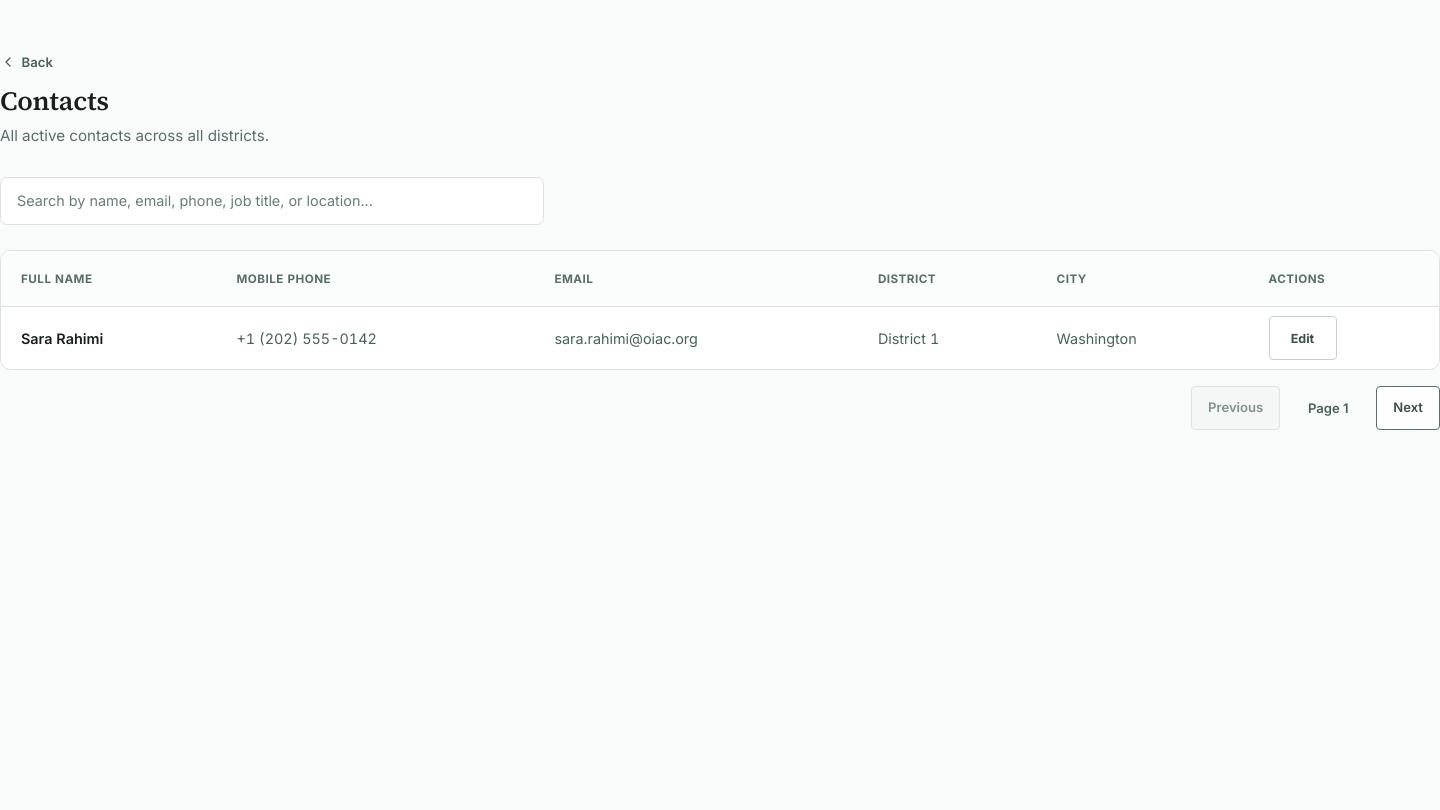
Scenario: opens and closes the administrator edit modal and restores focus
This screenshot has width=1440, height=810.
Click the button with aria-label "Edit Sara Rahimi".
click(1302, 338)  # box [1268,316,1336,360]
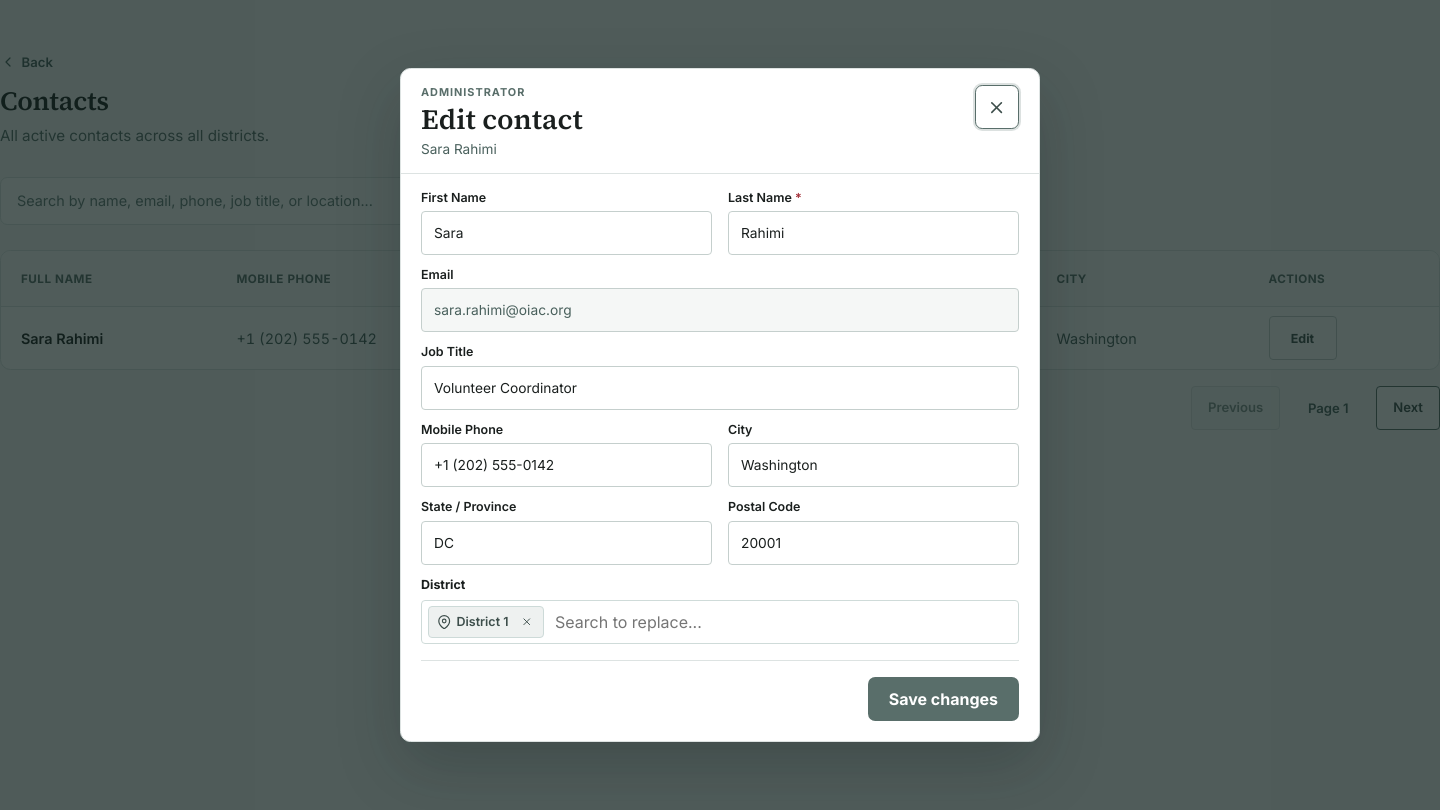
Now the dialog "Edit contact" is shown, box [400,68,1040,742]
Click the button named "Close edit contact".
click(997, 107)  # box [975,85,1019,129]
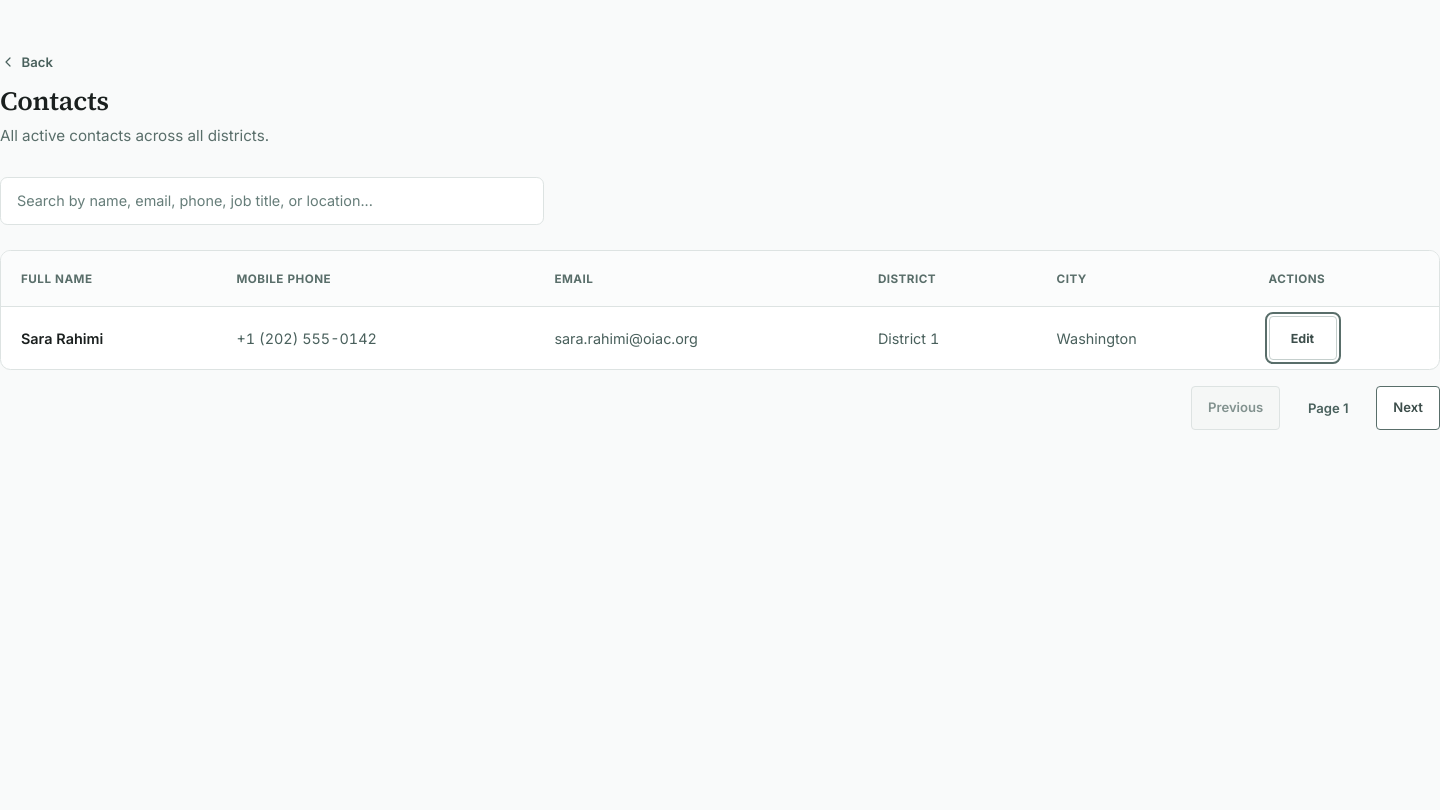
Now the dialog is gone
